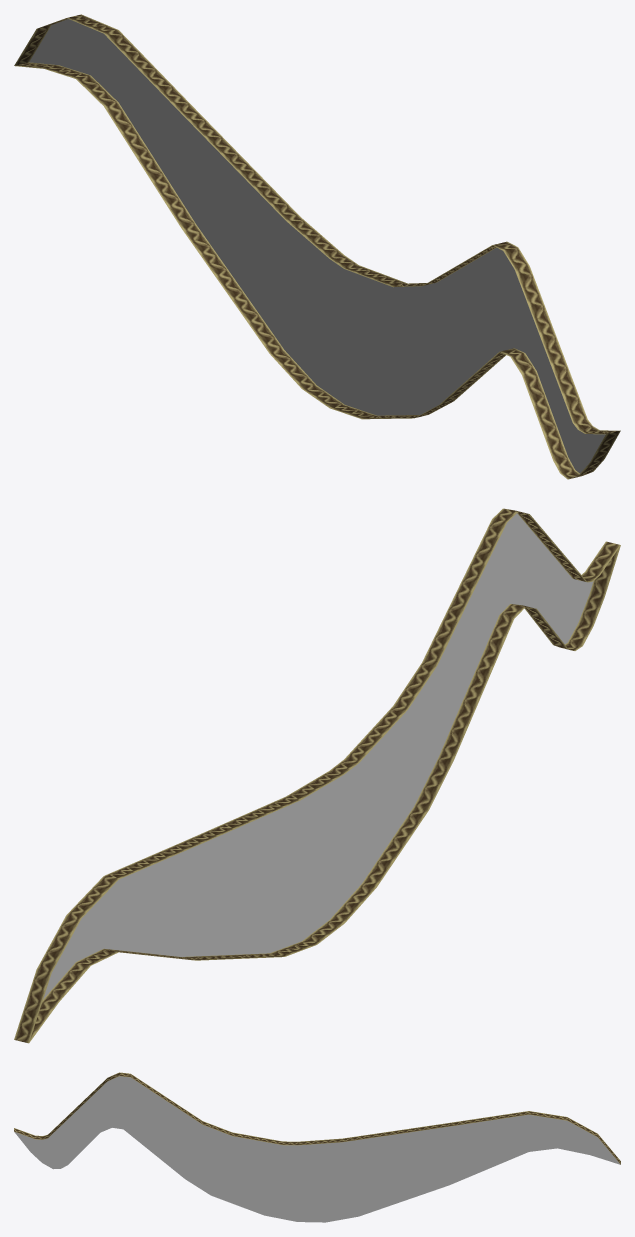
File: fog.fbx
The picture shows the model from 3 angles, top to bottom: view 1: azimuth 30°, elevation 25°; view 2: azimuth 150°, elevation 25°; view 3: azimuth 270°, elevation 25°; orthographic projection. The views are drawn at different scales.
Parts seen in each view (by area): view 1: fog; view 2: fog; view 3: fog.
Boxes of the visible parts, left/top/right/bottom form: fog: left=14, top=14, right=620, bottom=479; fog: left=14, top=508, right=620, bottom=1043; fog: left=14, top=1072, right=620, bottom=1222.
Bounding box in the file's own units: 0.0759 × 1.38 × 5.18.
